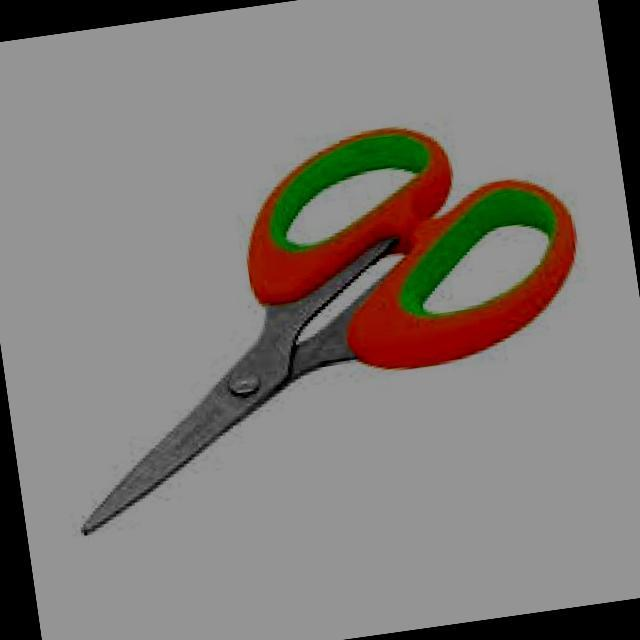Scissors: (13, 81, 621, 550)
